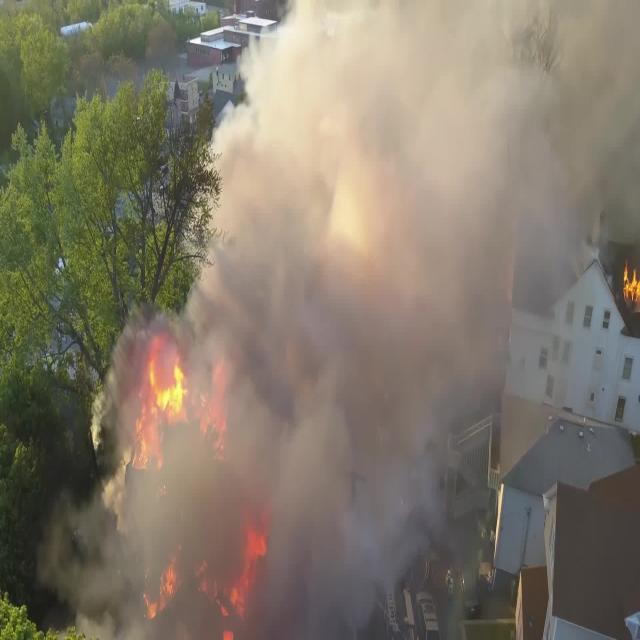Fire: (142, 338, 221, 458), (226, 520, 274, 620), (150, 564, 178, 618), (627, 266, 640, 306)
Smoke: (232, 65, 510, 498), (305, 0, 640, 270)
